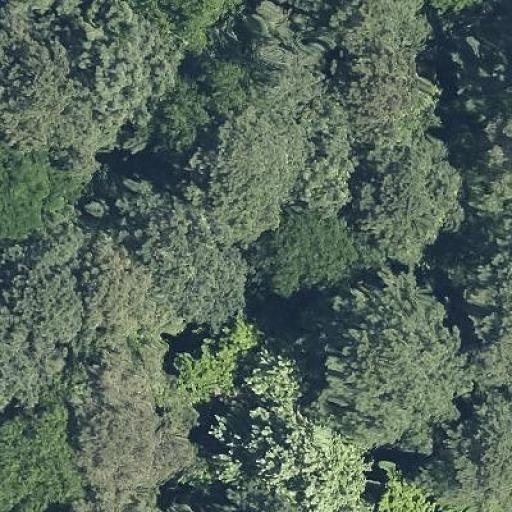tree-top: (301, 279, 467, 457), (229, 346, 366, 506), (114, 184, 253, 319), (80, 250, 172, 406), (351, 137, 463, 264), (70, 2, 188, 121), (208, 104, 305, 246), (339, 37, 442, 149), (246, 205, 365, 298), (76, 397, 190, 493), (244, 0, 336, 108), (12, 232, 92, 348), (434, 384, 507, 511), (0, 396, 79, 508), (464, 230, 512, 392), (160, 321, 262, 397), (6, 44, 82, 145), (0, 142, 76, 239), (0, 317, 62, 412), (200, 53, 259, 122), (365, 456, 438, 510), (159, 76, 207, 151), (464, 146, 512, 214)
